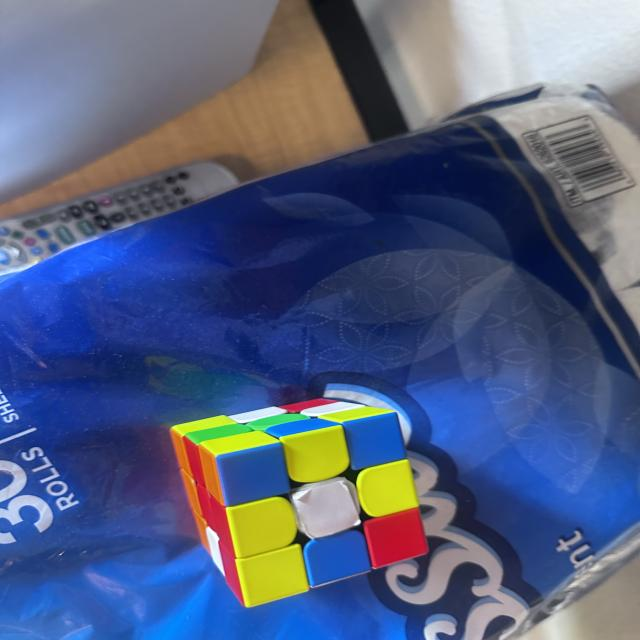sticker: (194, 429, 282, 507), (273, 420, 350, 485), (288, 476, 364, 540), (333, 409, 407, 472), (237, 544, 311, 606), (225, 496, 300, 557), (362, 508, 430, 570), (302, 529, 371, 587), (356, 459, 421, 518), (197, 484, 235, 560), (194, 442, 228, 504), (194, 481, 226, 535), (179, 466, 206, 526), (182, 440, 210, 494), (170, 432, 196, 484), (265, 418, 327, 438), (246, 412, 306, 432), (282, 398, 340, 414)
